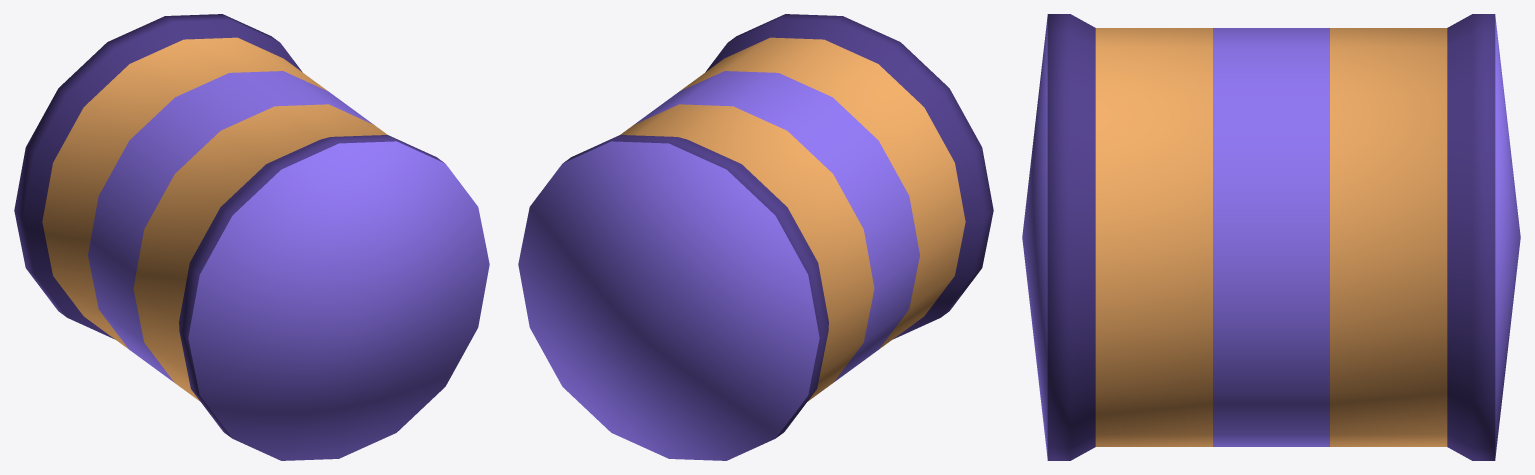
Rendered from drum.glb.
3 renders of one model, left to right at view 1: azimuth 30°, elevation 25°; view 2: azimuth 150°, elevation 25°; view 3: azimuth 270°, elevation 25°, orthographic. The views are drawn at different scales.
Visible parts, largest first — view 1: Cylinder.145; view 2: Cylinder.145; view 3: Cylinder.145.
Part boxes in pixels (x1,y1,x2,y2): Cylinder.145: [14, 14, 489, 460]; Cylinder.145: [518, 14, 993, 460]; Cylinder.145: [1022, 14, 1520, 460].
Size of what is drawn, in the model's own units: 1.38 by 1.38 by 1.53.
Materials: 1 (1 with a texture image).
